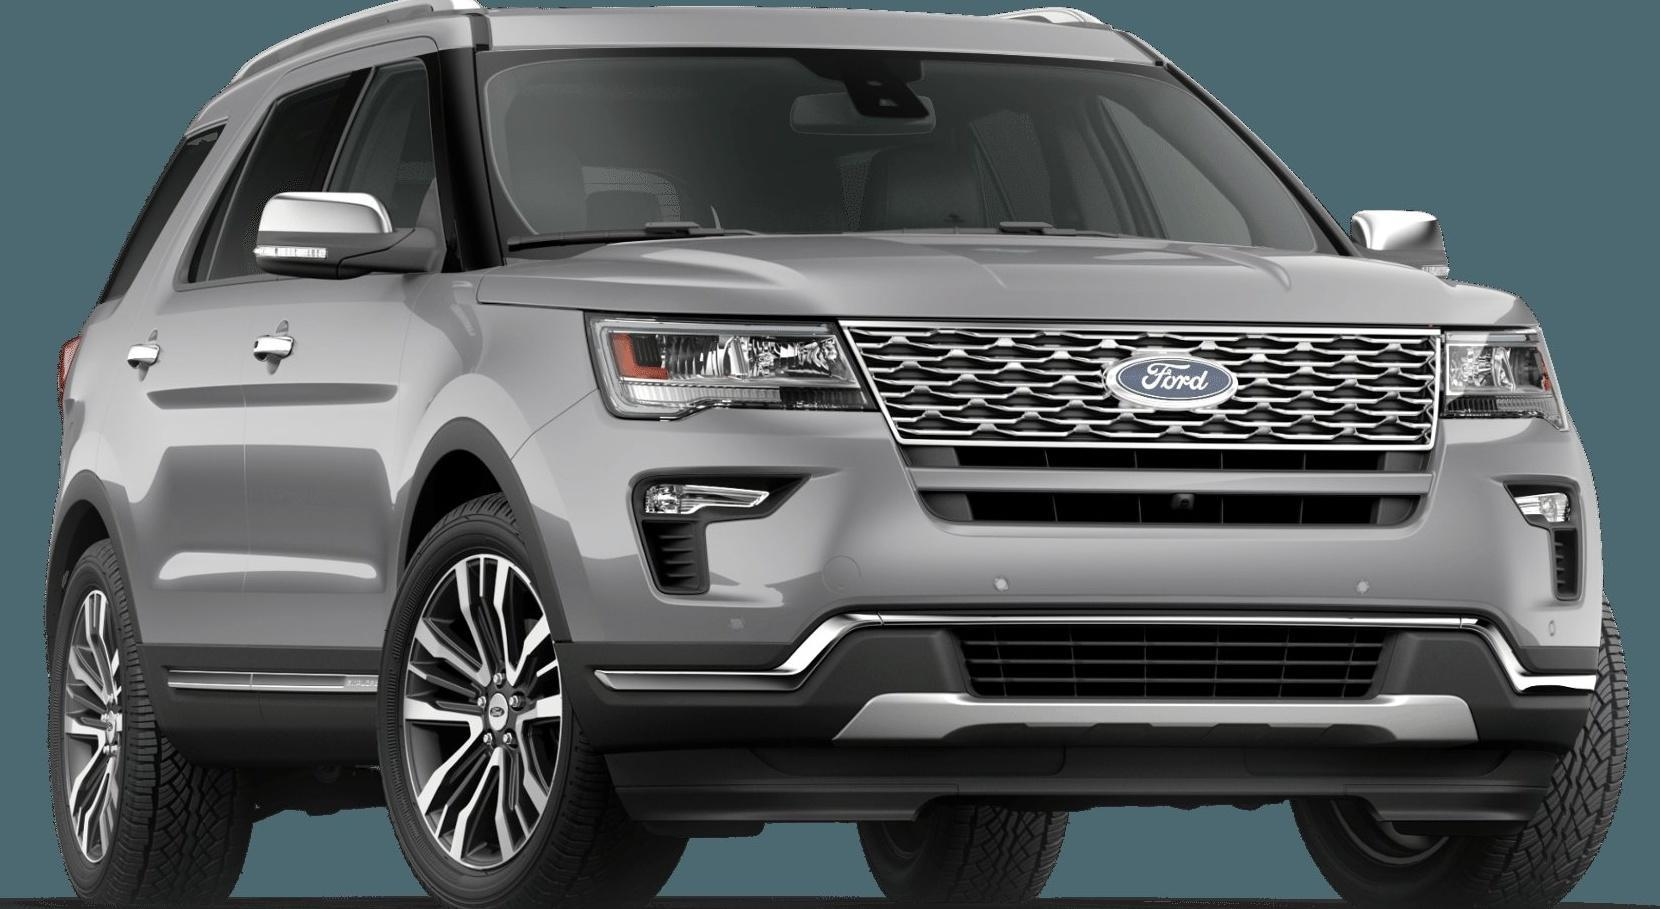Crossovers: (43, 1, 1632, 909)
